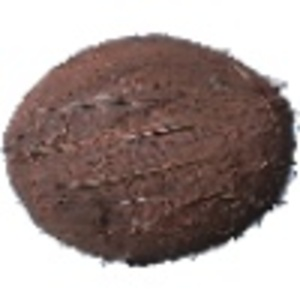coco: (3, 35, 300, 267)
